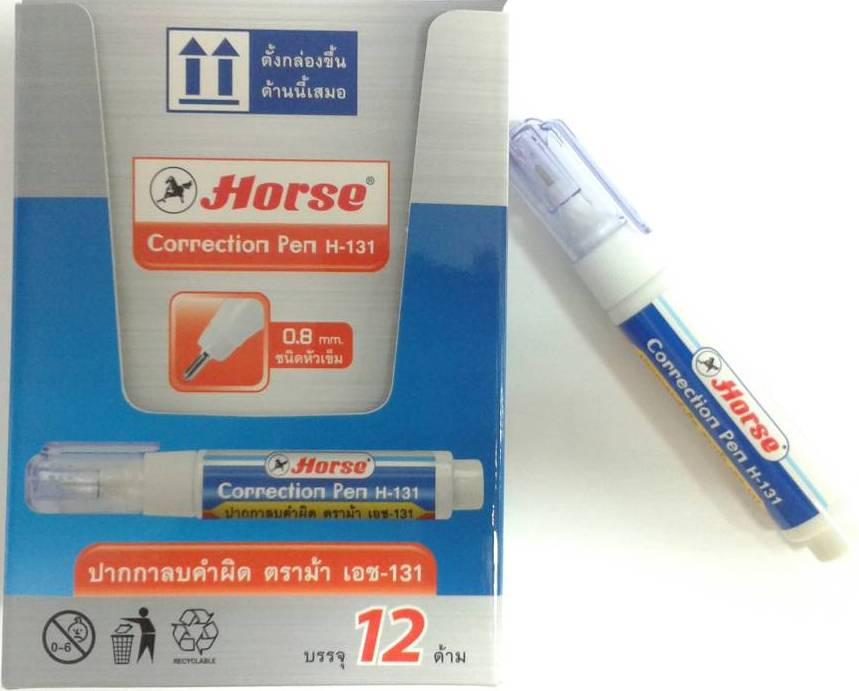Correction_fluid: (508, 110, 859, 571), (22, 430, 491, 536)
